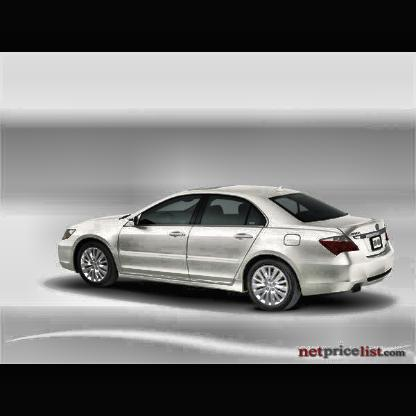Acura RL Sedan 2012: (59, 184, 398, 313)
